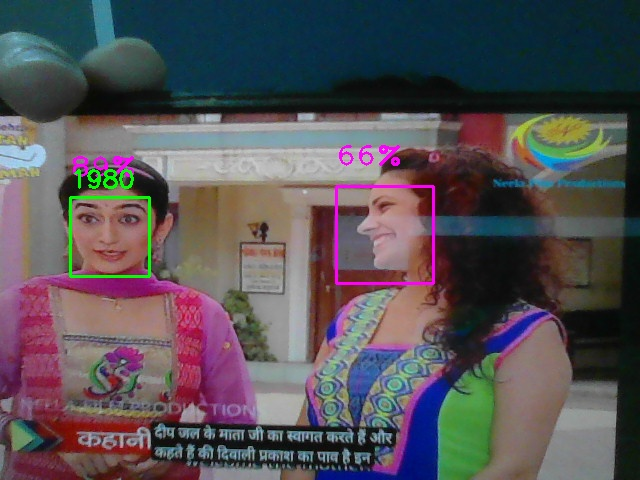fake: (70, 197, 150, 277)
